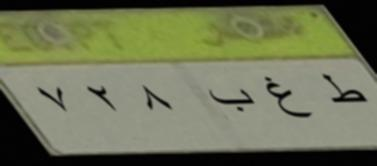2: (87, 80, 119, 121)
7: (34, 80, 70, 120)
8: (132, 79, 175, 118)
Taa: (318, 70, 370, 111)
baa: (206, 81, 255, 117)
ghayn: (262, 71, 312, 126)
